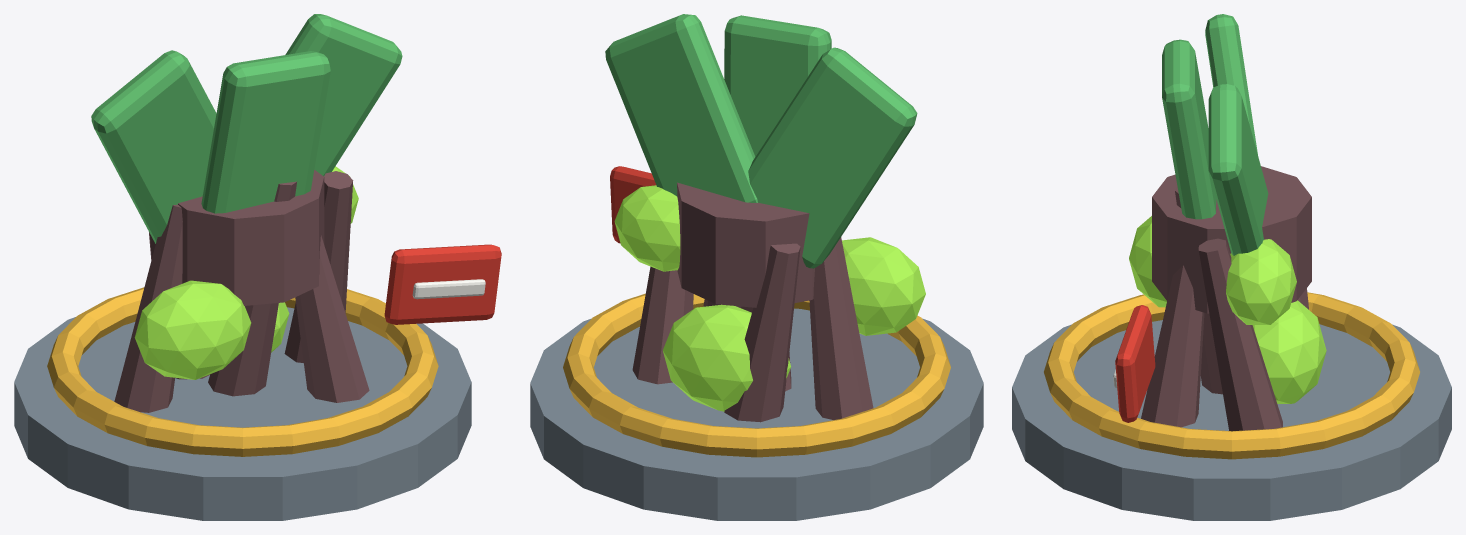
Rendered from grove_mucked_root_sample.glb.
The picture shows the model from 3 angles, left to right: view 1: azimuth 30°, elevation 25°; view 2: azimuth 150°, elevation 25°; view 3: azimuth 270°, elevation 25°; orthographic projection. The views are drawn at different scales.
Parts seen in each view (by area): view 1: Mucked_Sample_Tray, Muck_Hazard_Ring, Leaf_3.001, Leaf_1.001, Root_Crown.001, Muck_Glob_1, Leaf_2.001, Muck_Sample_Tag, Root_5.001, Root_1.001, Root_2.001, Root_3.001 (+1 smaller); view 2: Mucked_Sample_Tray, Leaf_1.001, Leaf_2.001, Muck_Hazard_Ring, Root_Crown.001, Leaf_3.001, Root_1.001, Muck_Glob_3, Root_4.001, Muck_Glob_1, Muck_Glob_2, Root_3.001 (+1 smaller); view 3: Mucked_Sample_Tray, Muck_Hazard_Ring, Root_Crown.001, Root_3.001, Leaf_2.001, Leaf_3.001, Root_5.001, Muck_Glob_3, Muck_Glob_2, Muck_Sample_Tag, Leaf_1.001, Muck_Glob_1 (+1 smaller).
Part boxes in pixels (bbox=[...]): Mucked_Sample_Tray: bbox=[14, 307, 471, 520]; Muck_Hazard_Ring: bbox=[47, 287, 438, 456]; Leaf_3.001: bbox=[201, 51, 330, 213]; Leaf_1.001: bbox=[91, 50, 216, 243]; Root_Crown.001: bbox=[178, 170, 324, 305]; Muck_Glob_1: bbox=[134, 280, 251, 379]; Leaf_2.001: bbox=[285, 14, 402, 176]; Muck_Sample_Tag: bbox=[384, 244, 501, 324]; Root_5.001: bbox=[295, 235, 369, 402]; Root_1.001: bbox=[114, 204, 182, 412]; Root_2.001: bbox=[208, 181, 296, 396]; Root_3.001: bbox=[284, 171, 353, 363]; Mucked_Sample_Tray: bbox=[530, 308, 983, 520]; Leaf_1.001: bbox=[748, 47, 917, 268]; Leaf_2.001: bbox=[605, 14, 757, 202]; Muck_Hazard_Ring: bbox=[563, 293, 950, 457]; Root_Crown.001: bbox=[677, 182, 814, 307]; Leaf_3.001: bbox=[724, 15, 831, 156]; Root_1.001: bbox=[809, 237, 873, 419]; Muck_Glob_3: bbox=[663, 304, 790, 411]; Root_4.001: bbox=[724, 243, 800, 422]; Muck_Glob_1: bbox=[842, 237, 925, 335]; Muck_Glob_2: bbox=[614, 185, 680, 271]; Root_3.001: bbox=[632, 266, 693, 384]; Mucked_Sample_Tray: bbox=[1012, 320, 1451, 520]; Muck_Hazard_Ring: bbox=[1044, 292, 1419, 459]; Root_Crown.001: bbox=[1152, 166, 1311, 313]; Root_3.001: bbox=[1198, 238, 1282, 431]; Leaf_2.001: bbox=[1208, 84, 1268, 255]; Leaf_3.001: bbox=[1162, 39, 1216, 219]; Root_5.001: bbox=[1141, 265, 1204, 427]; Muck_Glob_3: bbox=[1252, 300, 1326, 403]; Muck_Glob_2: bbox=[1226, 239, 1296, 324]; Muck_Sample_Tag: bbox=[1115, 305, 1155, 422]; Leaf_1.001: bbox=[1205, 14, 1257, 154]; Muck_Glob_1: bbox=[1129, 216, 1166, 307].
Bounding box in the file's own units: 1.32 × 1.44 × 1.32.
